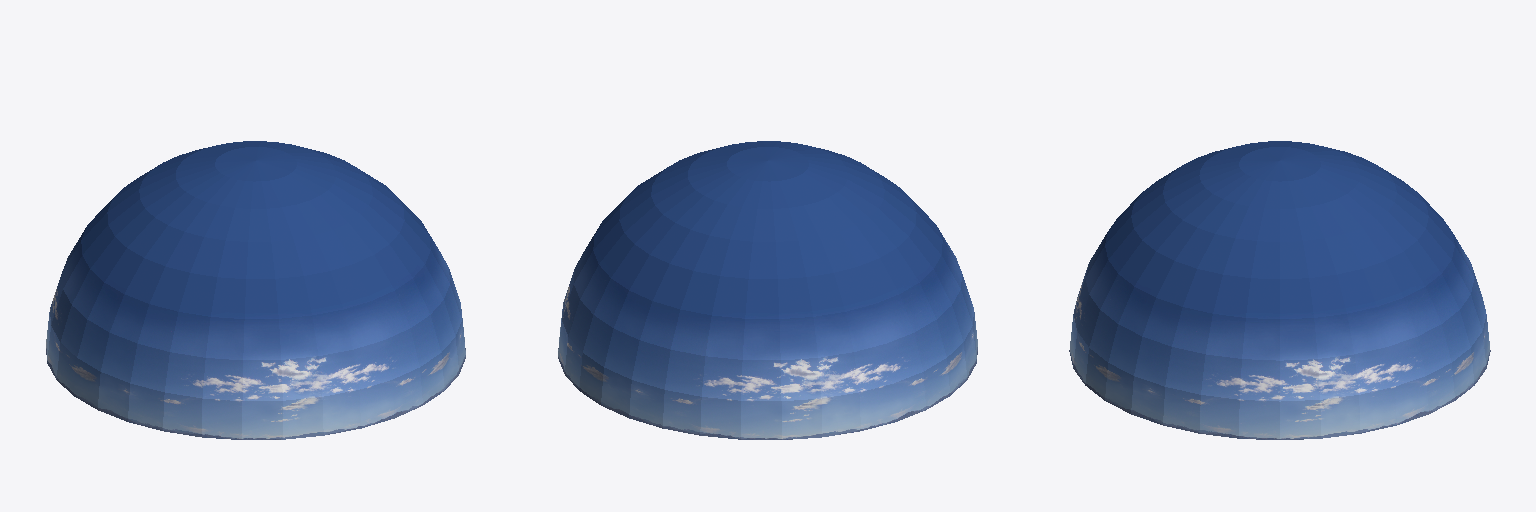
3 views of the same model, side by side, from view 1: azimuth 30°, elevation 25°; view 2: azimuth 150°, elevation 25°; view 3: azimuth 270°, elevation 25° (orthographic).
Visible parts, largest first — view 1: Skydome1; view 2: Skydome1; view 3: Skydome1.
Boxes of the visible parts, box(x1,y1,x2,y2) form: Skydome1: box(46, 141, 465, 439); Skydome1: box(558, 141, 977, 439); Skydome1: box(1069, 141, 1490, 439).
Bounding box in the file's own units: 3256 × 1628 × 3256.
1 materials, 1 textured.